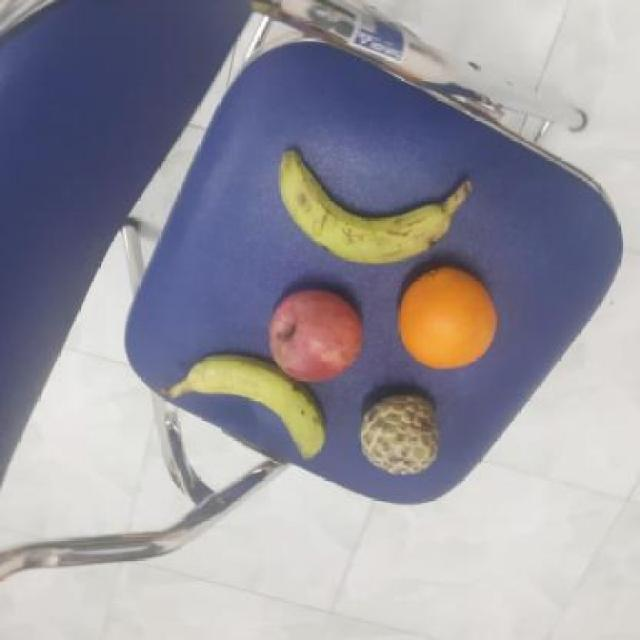apple: (262, 287, 366, 384)
banana: (275, 148, 453, 268), (184, 352, 334, 472)
oren: (394, 264, 503, 371)
sugar apple: (356, 393, 442, 481)
